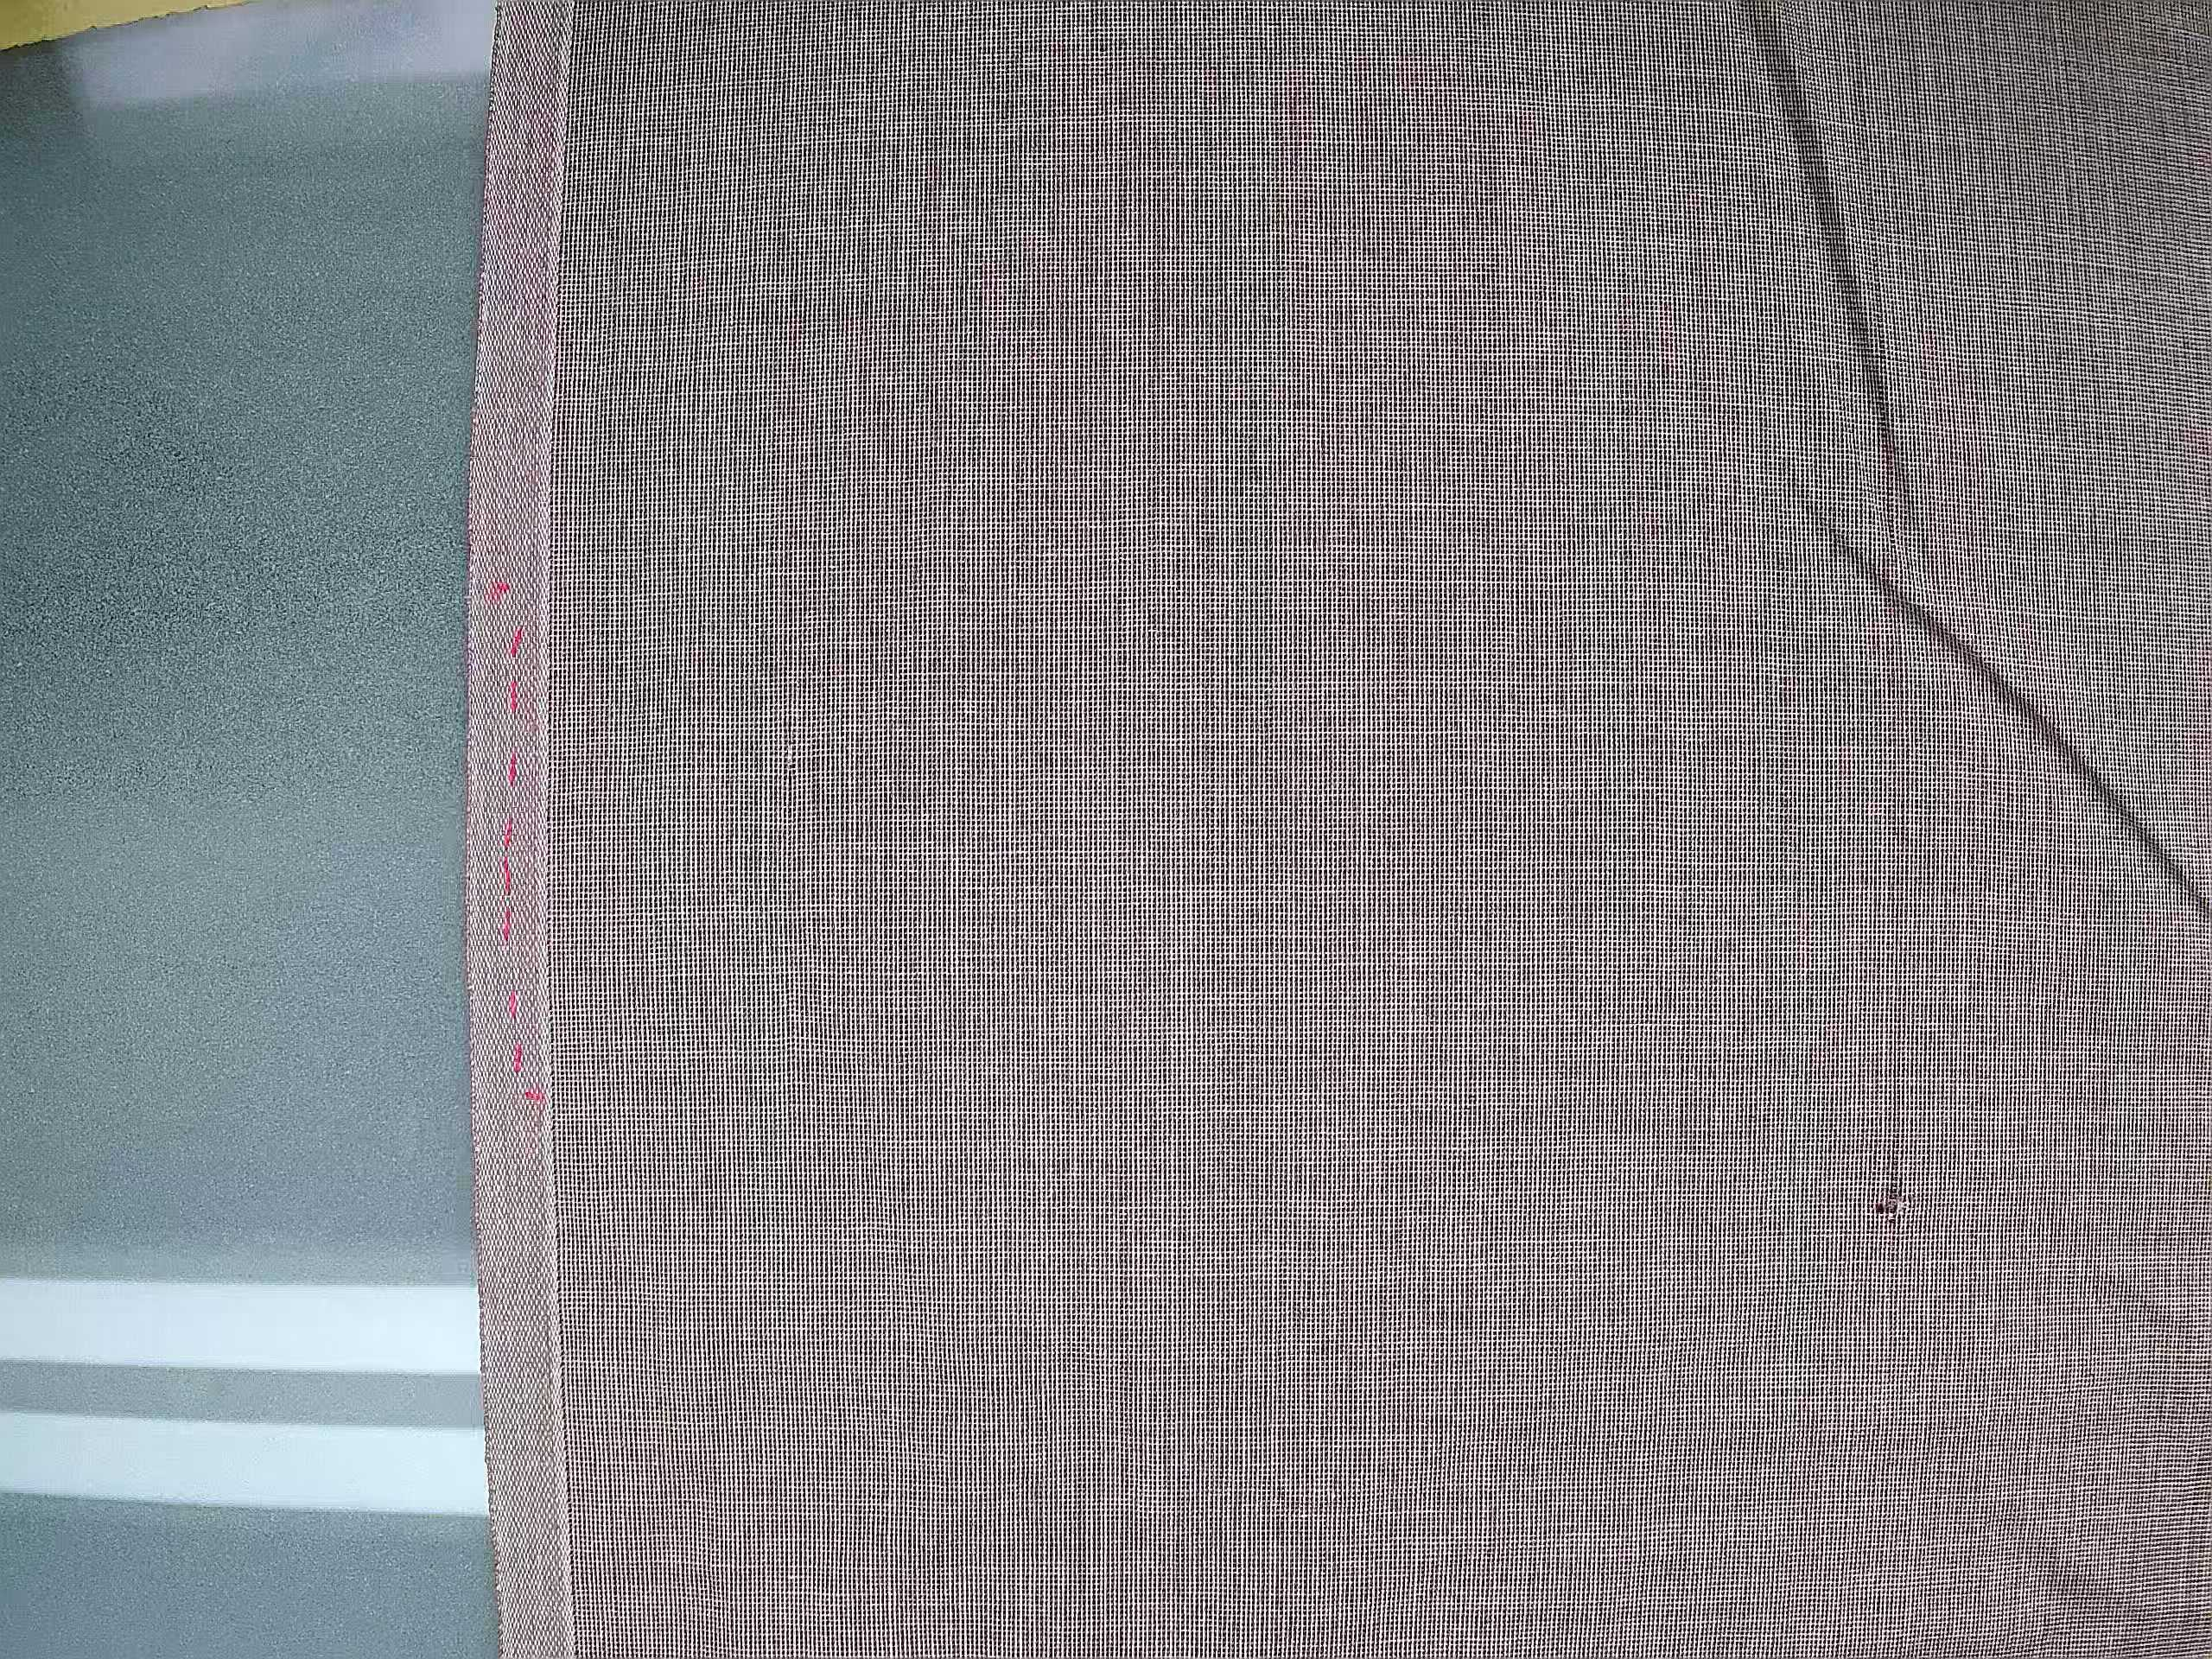others: (1832, 1143, 1928, 1256)
